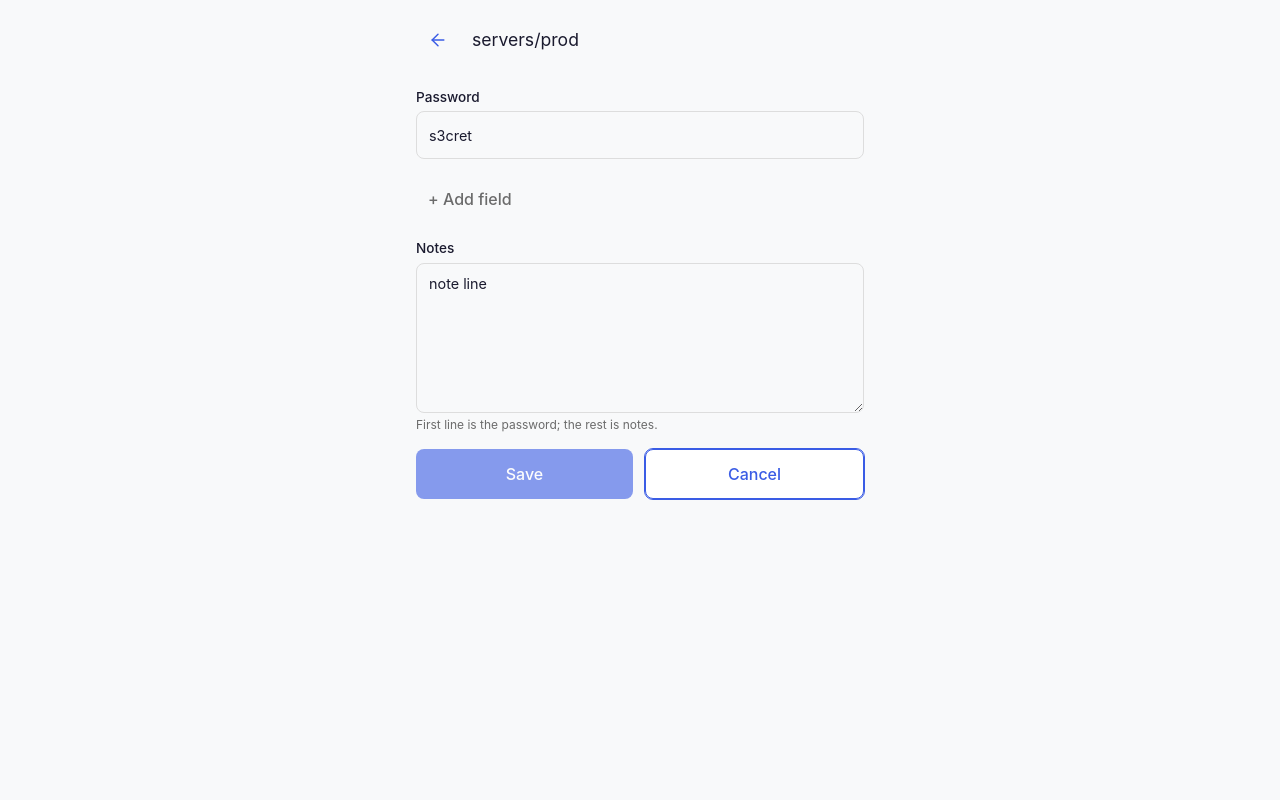
EntryEditPage › on entry_conflict outcome, surfaces the EntryConflictModal with the entry name
Replace the text in the field with id "e-password" with "newpass" at (640, 135), box [416, 111, 864, 159]
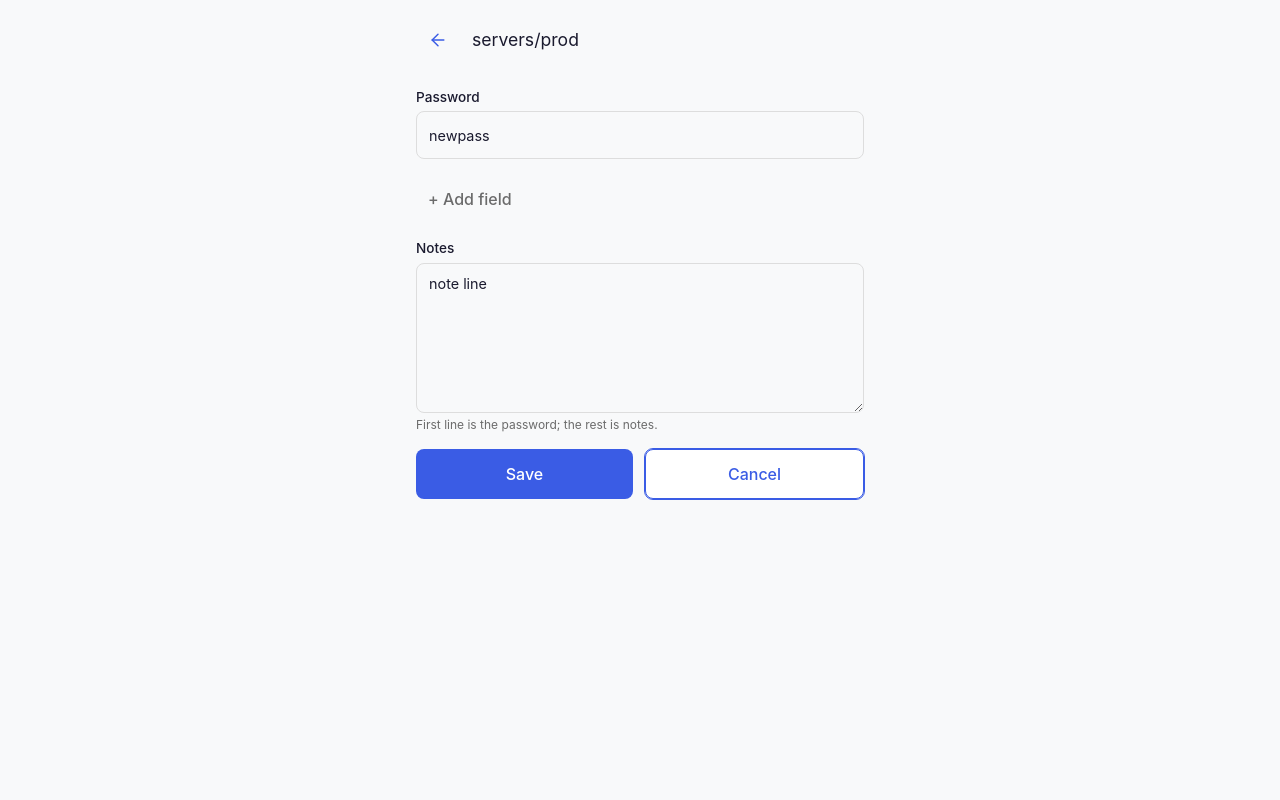
Submit the form, box [416, 88, 864, 500]
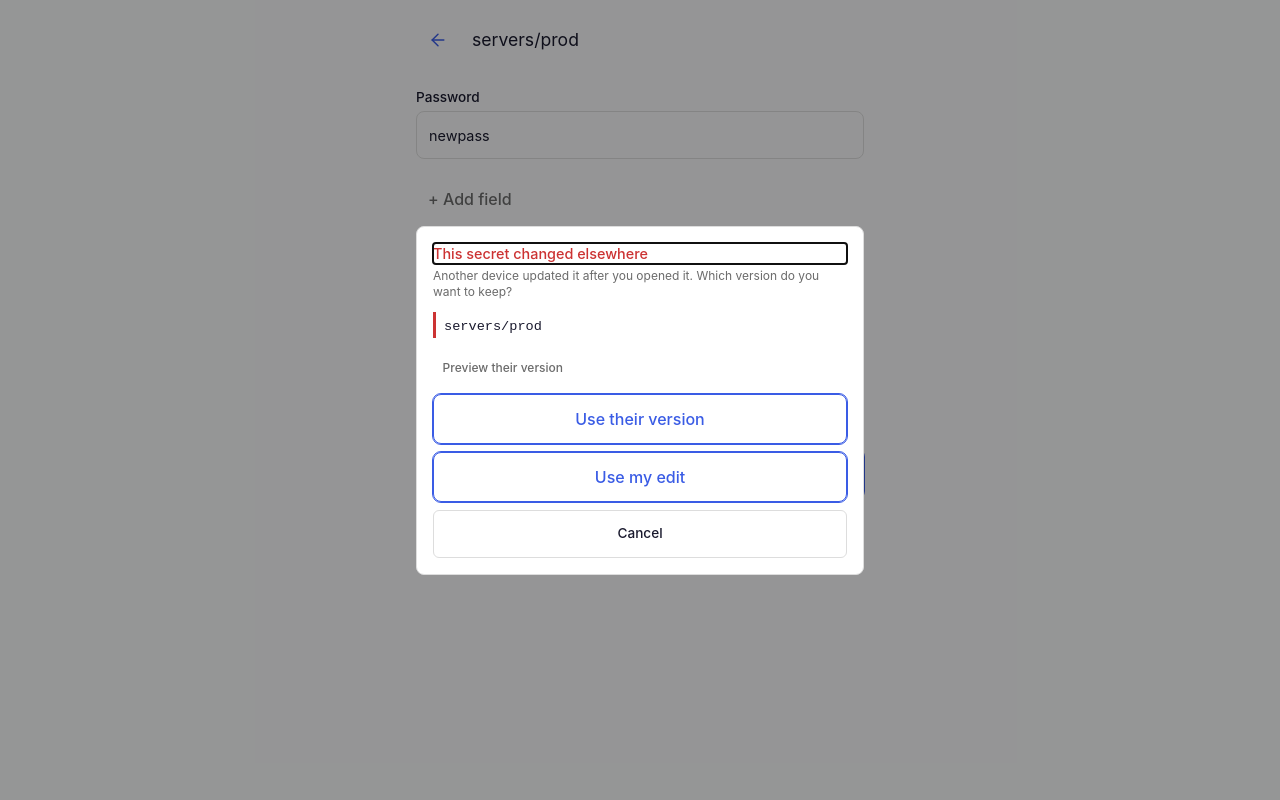
Expected: the text "servers/prod" is shown, [472, 29, 579, 50]
Result: the text "This secret changed elsewhere" is shown at [433, 244, 648, 262]
